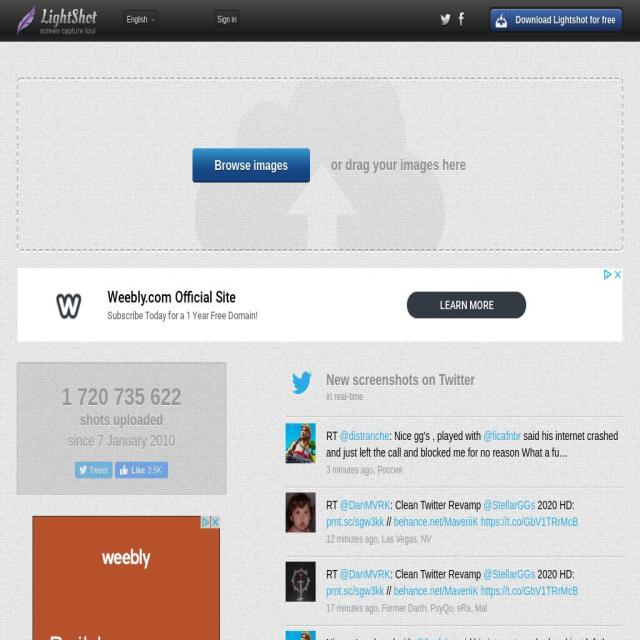button: (17, 4, 98, 38), (440, 11, 452, 28), (458, 11, 464, 28)
heading: (17, 4, 98, 21), (17, 21, 98, 37)
iframe: (17, 268, 623, 342), (32, 516, 220, 640), (114, 462, 168, 478), (75, 462, 113, 478)
image: (286, 424, 316, 464), (286, 492, 316, 532), (286, 562, 316, 602), (286, 631, 316, 640), (440, 12, 452, 28), (458, 12, 464, 28)
link: (481, 584, 578, 598), (481, 515, 578, 528), (394, 584, 479, 598), (394, 515, 479, 528), (326, 584, 384, 598), (326, 515, 384, 528), (483, 498, 535, 512), (483, 567, 535, 581), (340, 498, 391, 512), (340, 567, 391, 581), (340, 429, 390, 443), (483, 429, 522, 443), (217, 15, 237, 24), (415, 636, 453, 640)
text: (326, 429, 618, 459), (326, 388, 623, 405), (326, 372, 623, 388), (192, 148, 310, 182), (18, 388, 226, 405), (18, 433, 226, 449), (491, 9, 622, 31), (331, 157, 466, 173), (79, 412, 163, 428), (389, 429, 483, 443), (390, 498, 484, 512), (390, 567, 484, 581), (378, 603, 488, 614), (326, 636, 611, 640), (377, 533, 432, 545), (327, 533, 378, 545), (326, 464, 373, 476), (327, 603, 378, 614), (535, 498, 575, 512), (535, 567, 575, 581), (373, 464, 403, 476), (326, 636, 415, 640), (127, 11, 147, 28), (326, 429, 340, 443), (326, 498, 340, 512), (326, 567, 340, 581), (384, 584, 394, 598), (384, 515, 394, 528)
